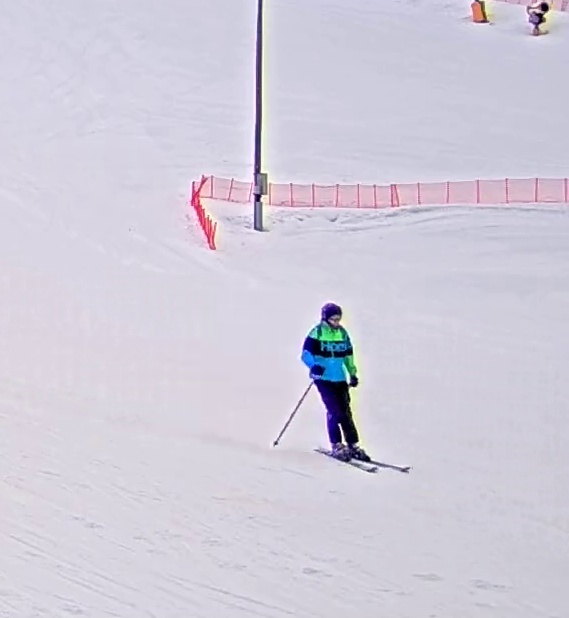skier: (271, 299, 412, 475)
